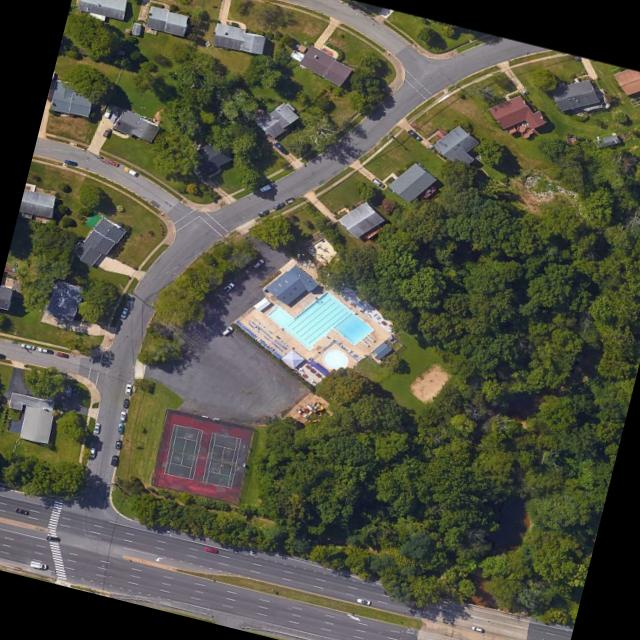large-vehicle: (220, 280, 235, 292), (36, 345, 53, 353)
small-vehicle: (272, 139, 288, 154), (406, 127, 422, 140), (108, 106, 119, 123), (28, 559, 46, 569), (101, 103, 113, 118), (122, 164, 137, 175), (251, 256, 264, 268), (371, 176, 385, 187), (103, 156, 118, 166), (220, 324, 233, 335), (256, 206, 269, 216), (271, 199, 284, 209), (13, 506, 28, 514), (355, 596, 370, 604), (101, 125, 111, 137), (53, 349, 67, 357), (63, 157, 77, 165), (109, 453, 118, 465), (45, 534, 60, 541), (203, 545, 217, 552), (119, 306, 127, 318), (259, 183, 270, 191), (19, 342, 33, 348), (116, 421, 123, 433), (123, 382, 130, 393), (121, 396, 128, 407), (93, 421, 100, 432), (469, 624, 481, 630), (118, 410, 125, 420), (88, 446, 95, 456), (114, 438, 120, 448), (0, 353, 5, 358)
